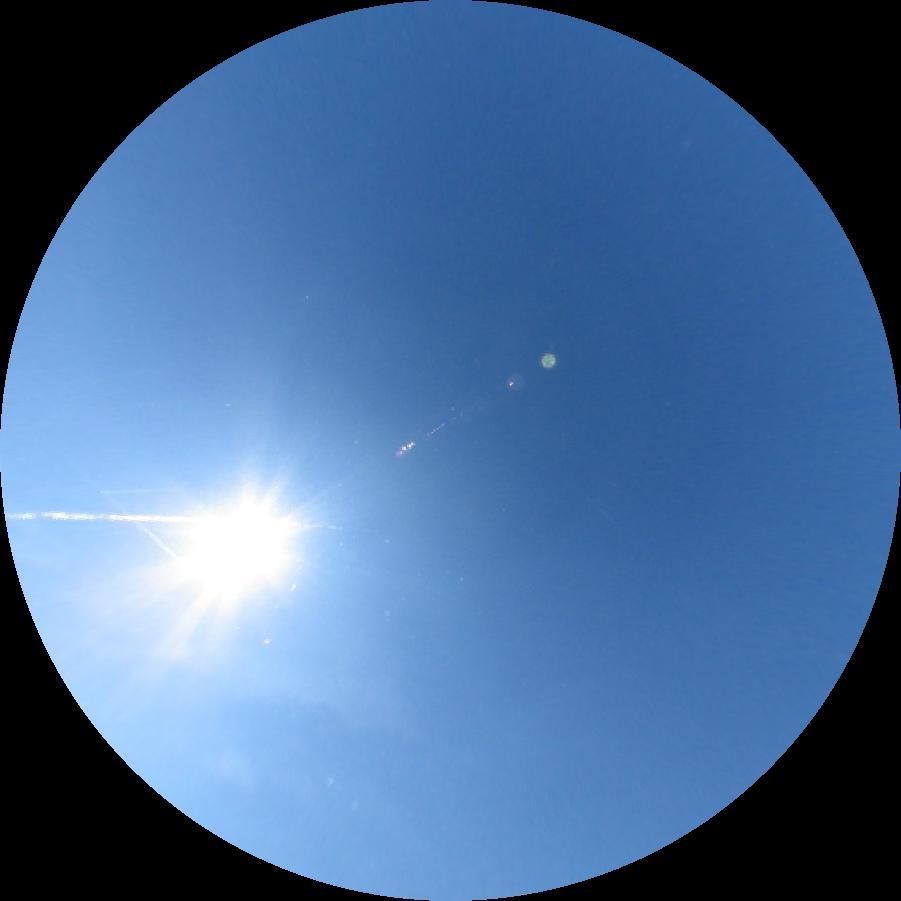contrail young: (87, 479, 183, 563), (583, 496, 617, 526)
parasite: (4, 510, 197, 522), (98, 487, 155, 493)
sun: (169, 481, 301, 615)
